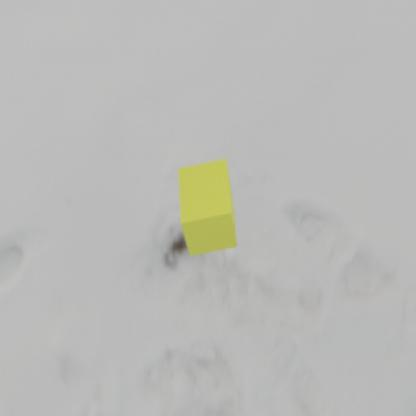cube: (177, 156, 238, 257)
